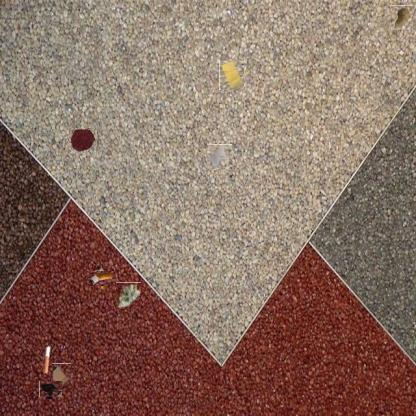dirty: (218, 60, 246, 89), (115, 283, 142, 309), (207, 144, 232, 170), (391, 6, 414, 29), (90, 267, 112, 289), (51, 364, 72, 385), (42, 345, 52, 375)
liquid: (69, 128, 97, 152), (41, 380, 61, 399)
